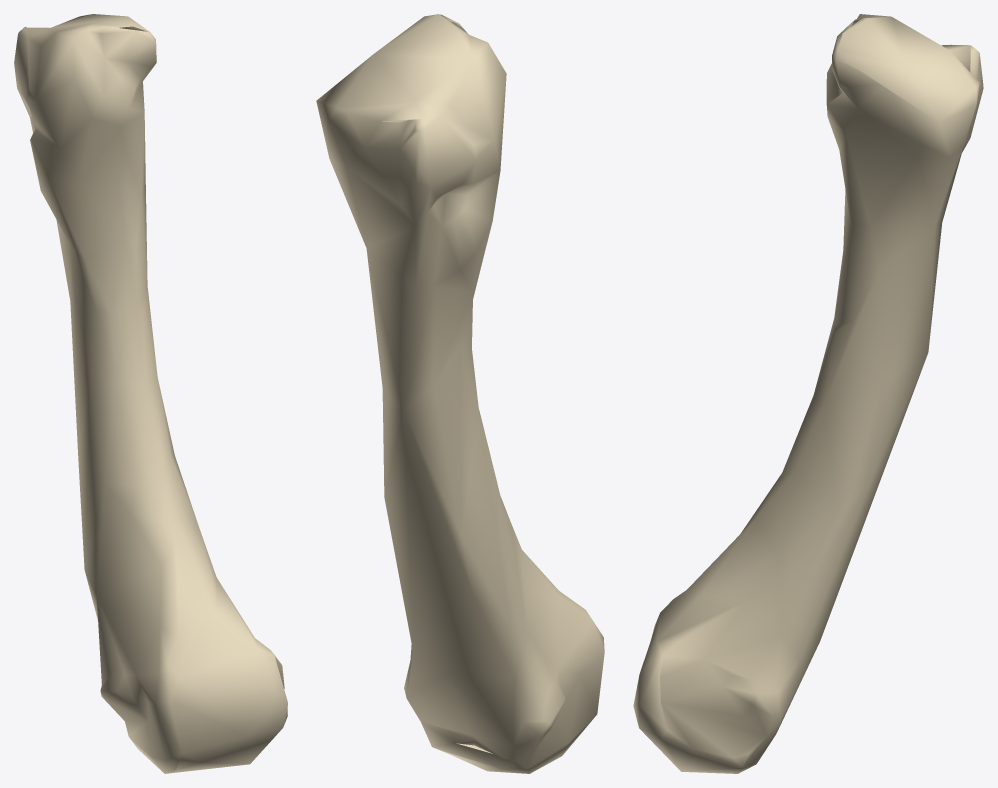
File: esqueleto-fourth-metacarpal-bone-r.glb
3 views of the same model, side by side, from view 1: azimuth 30°, elevation 25°; view 2: azimuth 150°, elevation 25°; view 3: azimuth 270°, elevation 25° (orthographic). The views are drawn at different scales.
Visible parts, largest first — view 1: Fourth metacarpal bone.r; view 2: Fourth metacarpal bone.r; view 3: Fourth metacarpal bone.r.
Part boxes in pixels (x1,y1,x2,y2): Fourth metacarpal bone.r: [14, 14, 287, 773]; Fourth metacarpal bone.r: [316, 14, 604, 773]; Fourth metacarpal bone.r: [633, 14, 983, 773].
Size of the model in its own units: 0.0131 by 0.0621 by 0.0271.
